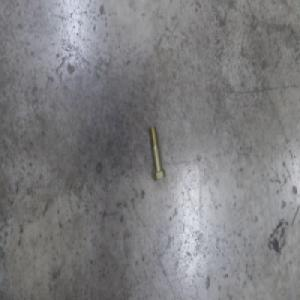Bolt: (149, 125, 166, 182)
